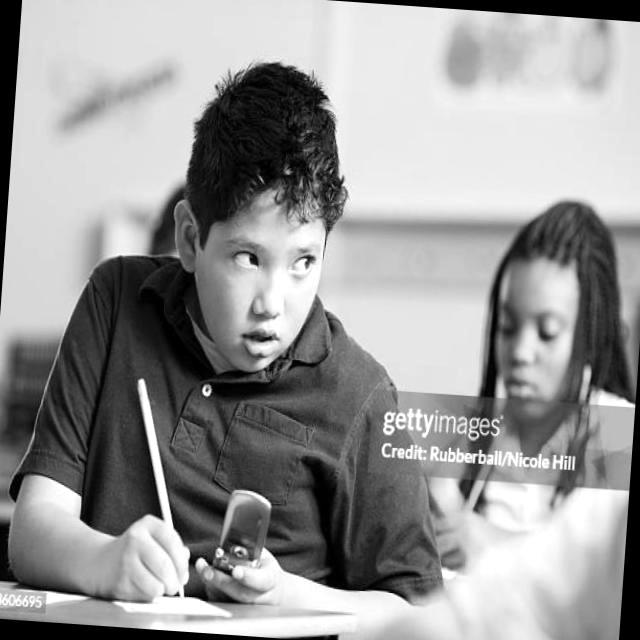phone: (210, 485, 272, 577)
